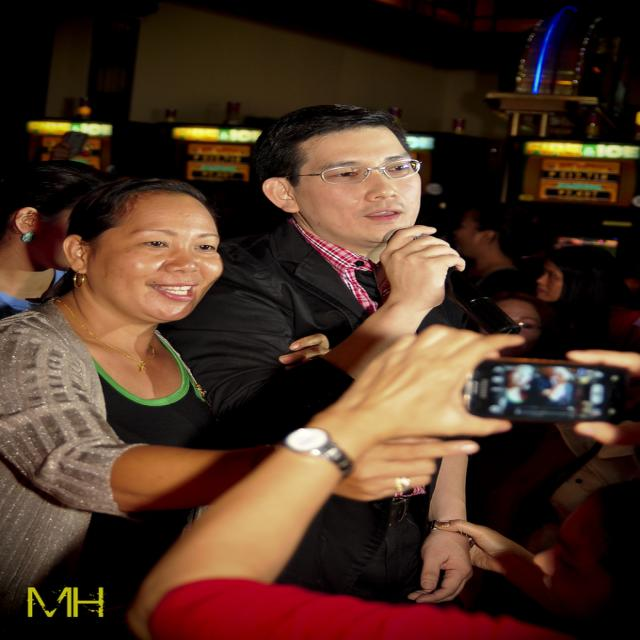Mobile-phone: (462, 356, 626, 434)
